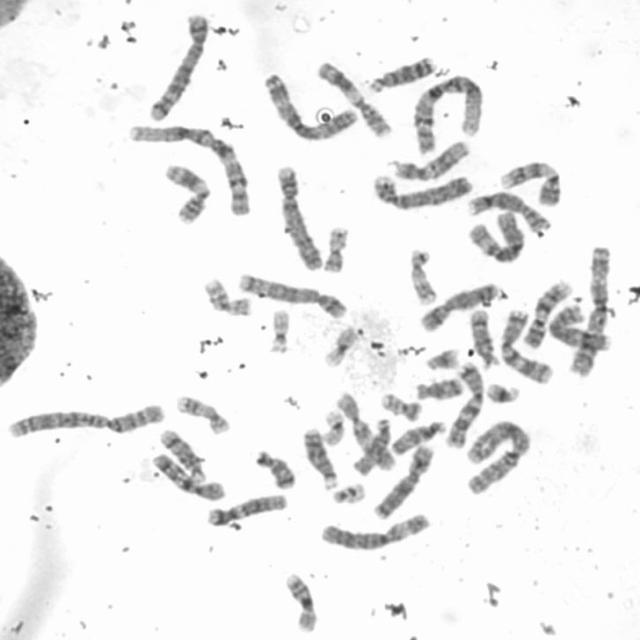A1: (125, 120, 253, 218), (410, 71, 486, 157)
A2: (2, 398, 167, 440), (462, 417, 532, 497)
A3: (260, 69, 360, 143), (564, 242, 613, 379)
B4: (274, 162, 324, 272), (366, 170, 474, 212)
B5: (145, 10, 210, 124), (234, 269, 349, 320)
C10: (332, 388, 396, 473), (148, 450, 227, 503)
C11: (313, 58, 393, 140), (160, 160, 212, 226)
C12: (391, 138, 472, 183), (203, 490, 288, 527)
C6: (314, 510, 432, 553), (464, 208, 526, 265)
C7: (496, 306, 555, 385), (441, 358, 486, 449)
C8: (464, 188, 552, 234), (547, 302, 611, 353)
C9: (520, 277, 576, 348), (497, 156, 562, 208)
D13: (365, 52, 438, 94), (299, 425, 339, 490)
D14: (156, 425, 208, 483), (467, 307, 499, 369)
D15: (349, 416, 395, 475), (388, 417, 448, 458)
E16: (280, 570, 318, 632), (202, 275, 254, 317)
E17: (172, 390, 233, 438), (406, 245, 438, 306)
E18: (252, 447, 296, 491), (412, 374, 464, 401)
F19: (320, 324, 360, 369), (319, 407, 346, 447)
F20: (320, 223, 351, 274), (378, 389, 424, 422)
G21: (422, 344, 462, 372), (483, 378, 522, 406)
G22: (266, 306, 292, 355), (328, 480, 367, 505)
X: (370, 441, 435, 521), (417, 281, 508, 334)
